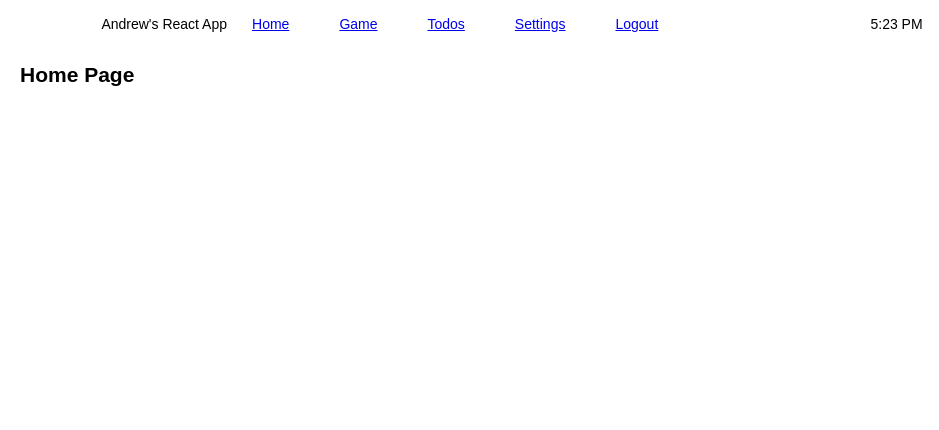
Test: TIC TAC TOE GAME › should not allow two players of the same name
Click the link "Game" at (358, 24), box 339,16 -> 377,32
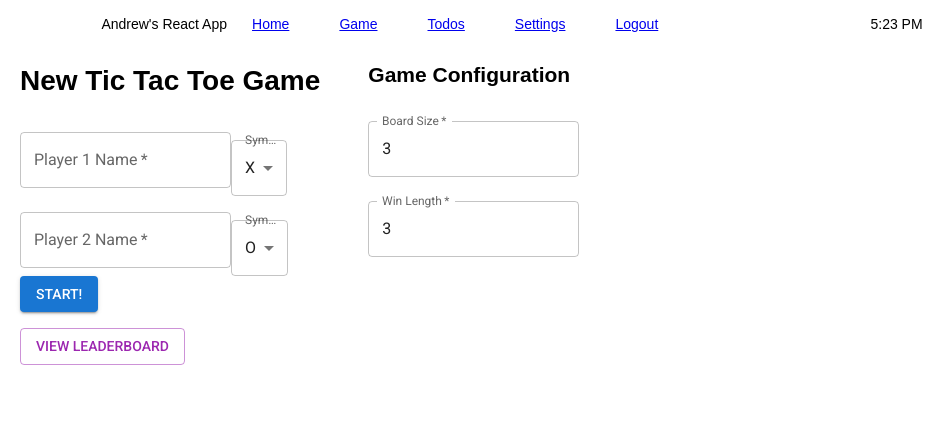
Type "Alice" into the field with test id "p1-name" at (126, 160), box 20,132 -> 231,188
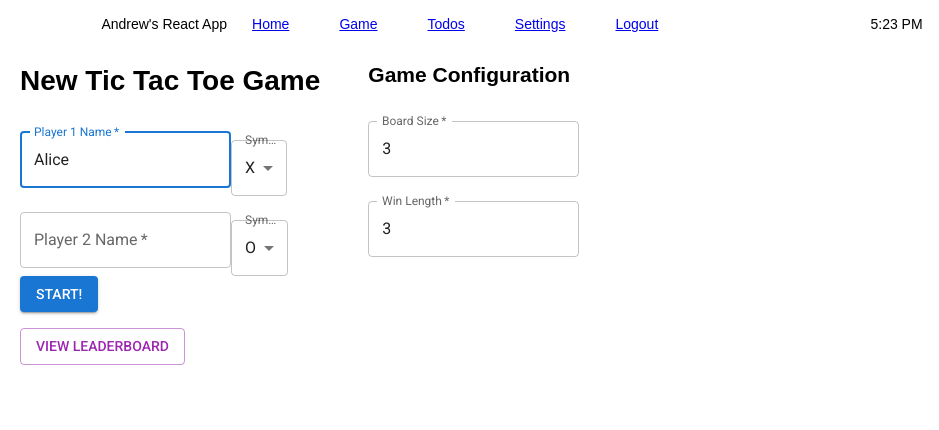
Type "Alice" into the field with test id "p2-name" at (126, 240), box 20,212 -> 231,268
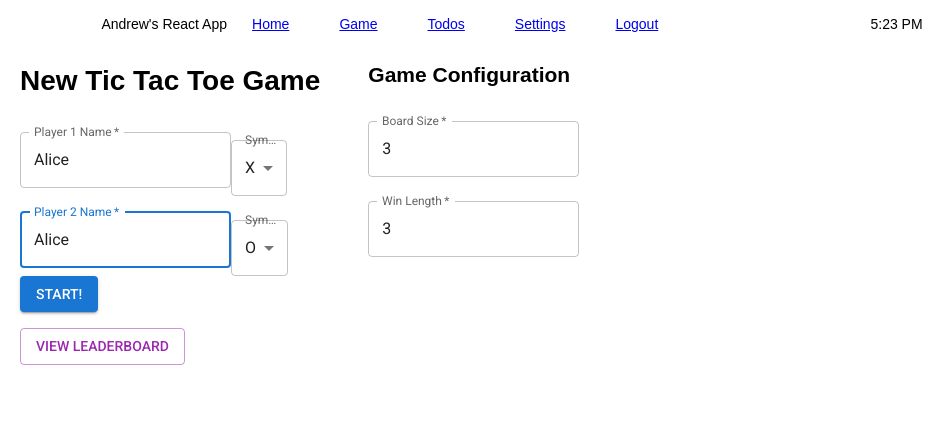
Click the button "Start!" at (59, 295), box 20,276 -> 98,313
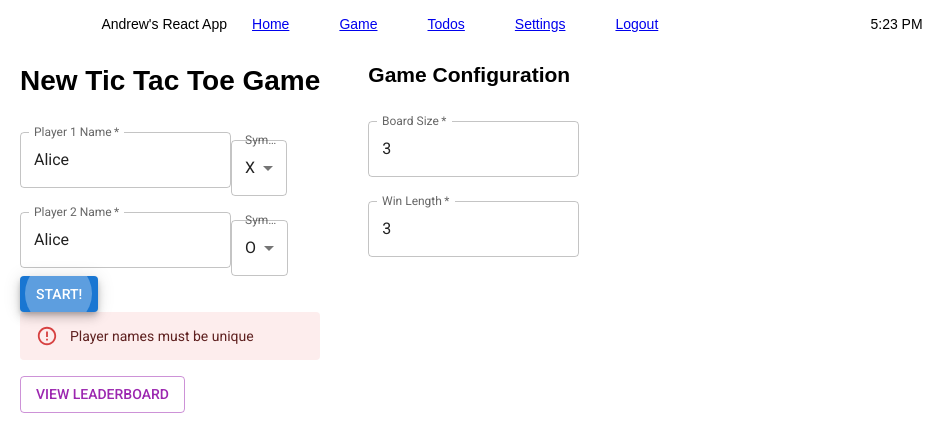
Result: the message "Player names must be unique" is shown at 20,312 -> 320,360
